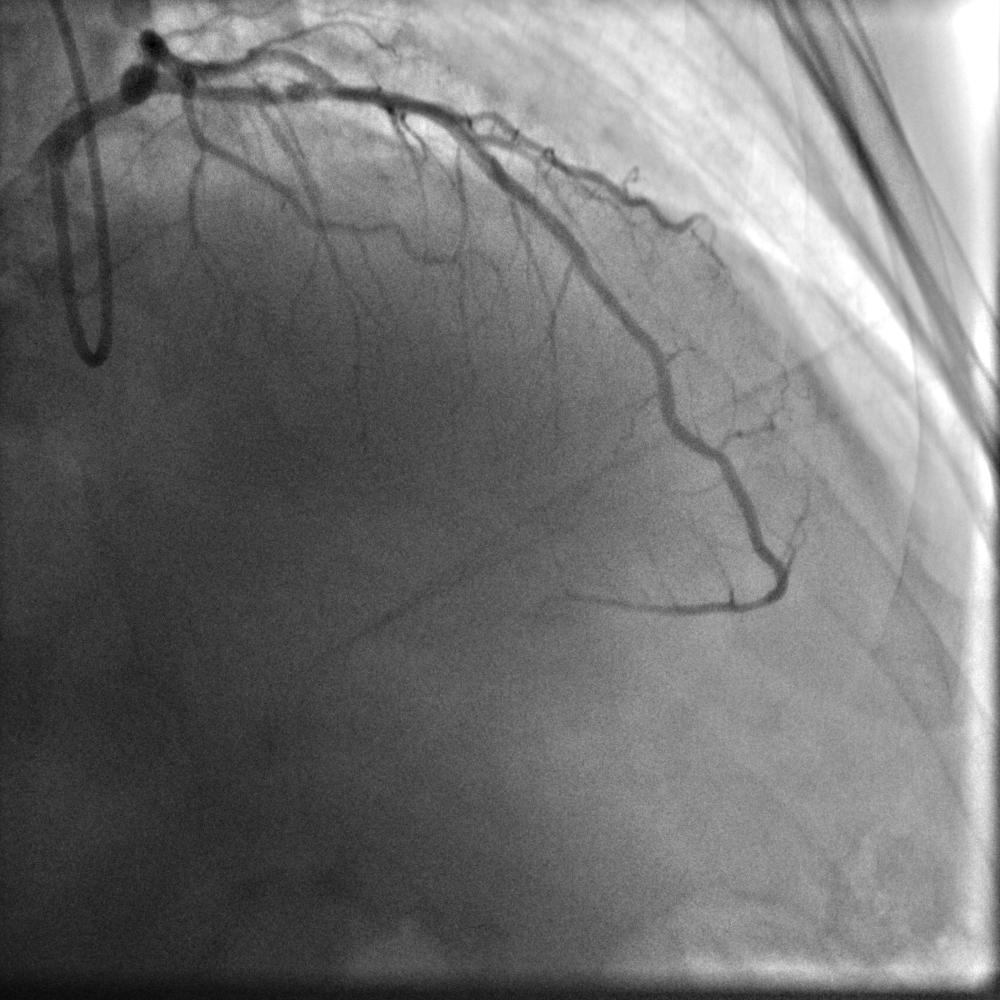Stenosis: (310, 81, 342, 103)
